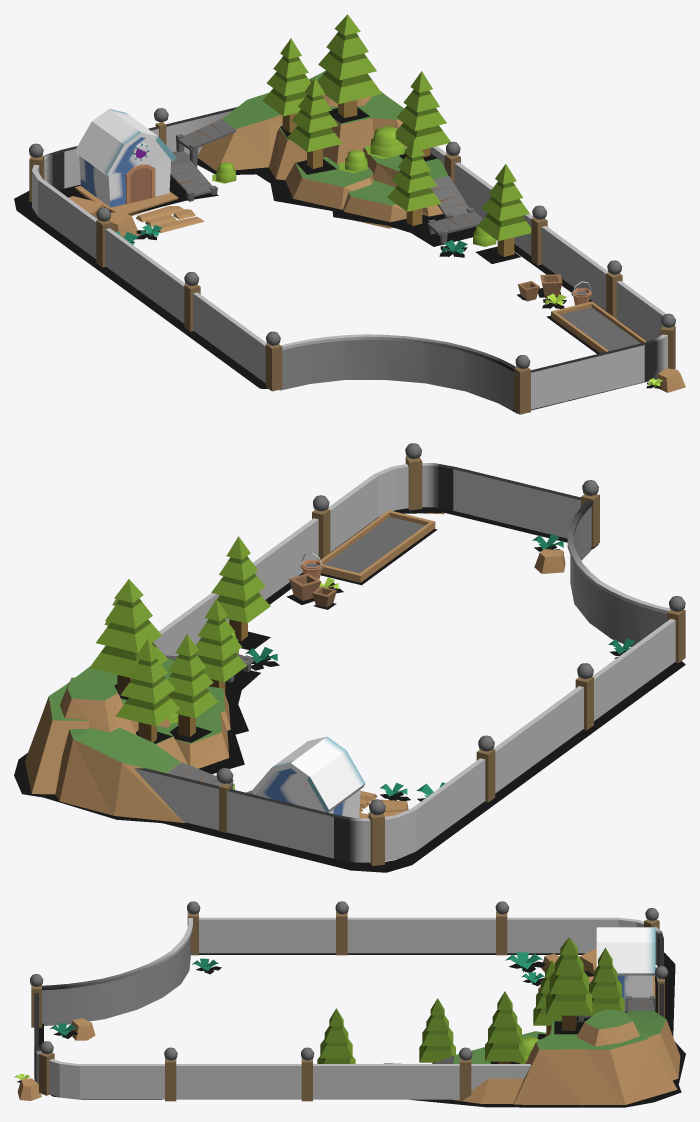
File: xweilan_1004_4.FBX
The picture shows the model from 3 angles, top to bottom: view 1: azimuth 30°, elevation 25°; view 2: azimuth 150°, elevation 25°; view 3: azimuth 270°, elevation 25°; orthographic projection. The views are drawn at different scales.
Parts seen in each view (by area): view 1: xweilan_1004_4; view 2: xweilan_1004_4; view 3: xweilan_1004_4.
Boxes of the visible parts, x1=… form: xweilan_1004_4: x1=14, y1=14, x2=685, y2=414; xweilan_1004_4: x1=14, y1=443, x2=685, y2=872; xweilan_1004_4: x1=14, y1=901, x2=685, y2=1107.
Size of the model in its own units: 4347 by 1900 by 7745.
